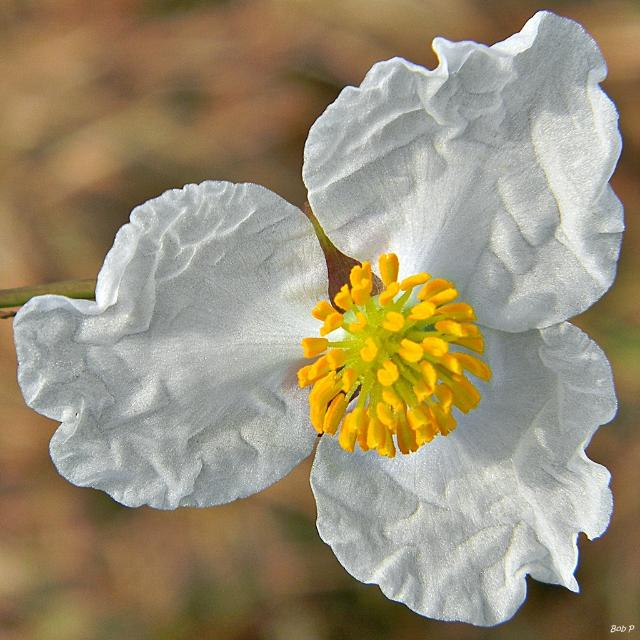Flower: (47, 85, 625, 620)
